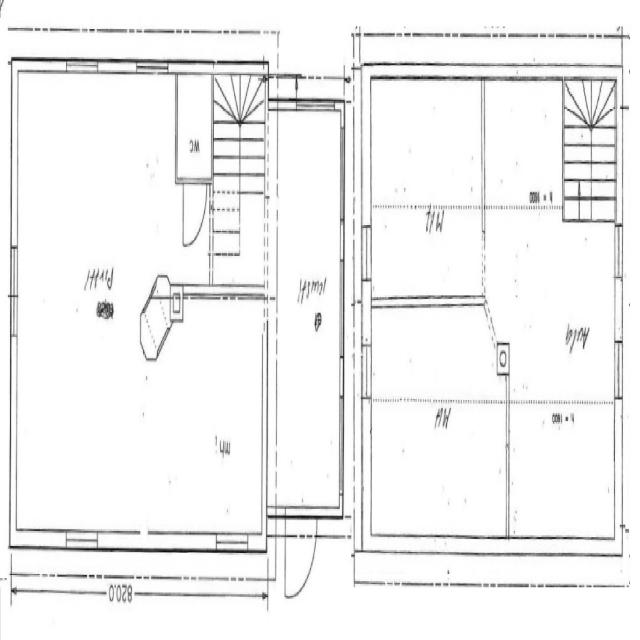door: (286, 505, 317, 605), (183, 177, 207, 250)
